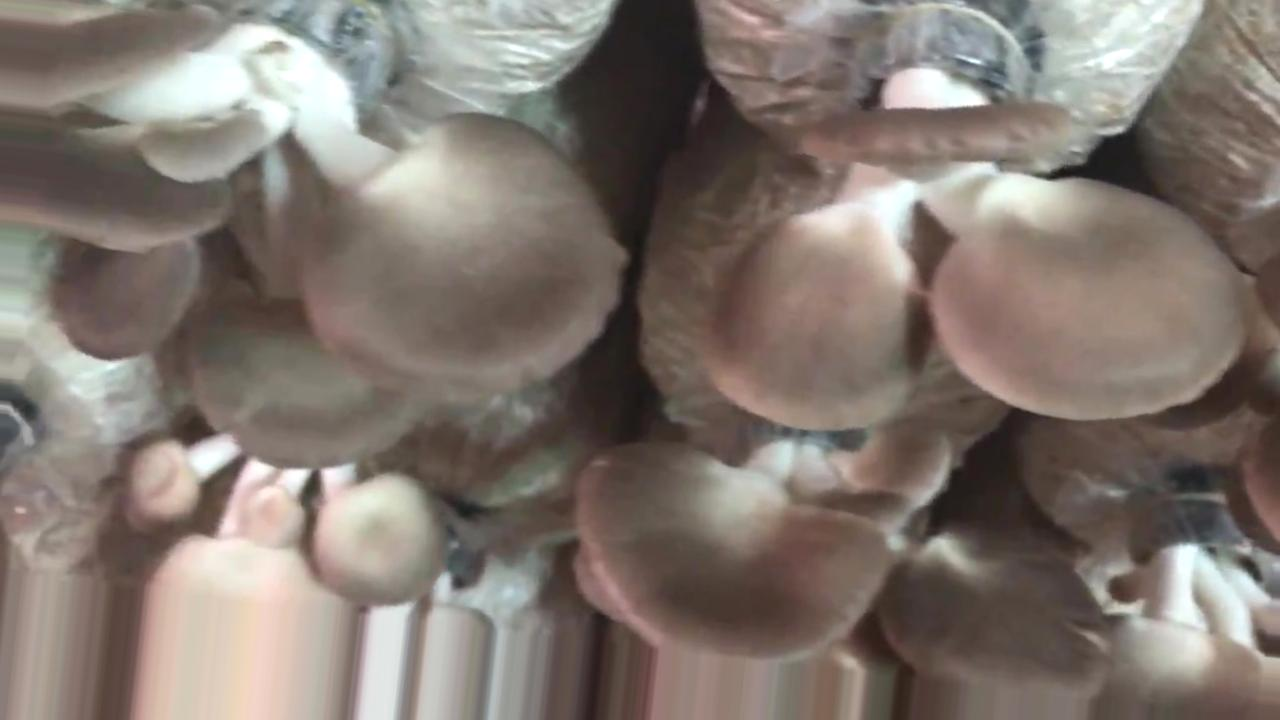nam: (3, 1, 620, 467), (706, 1, 1243, 427), (580, 405, 1100, 720), (131, 435, 448, 720), (1100, 474, 1274, 720)
